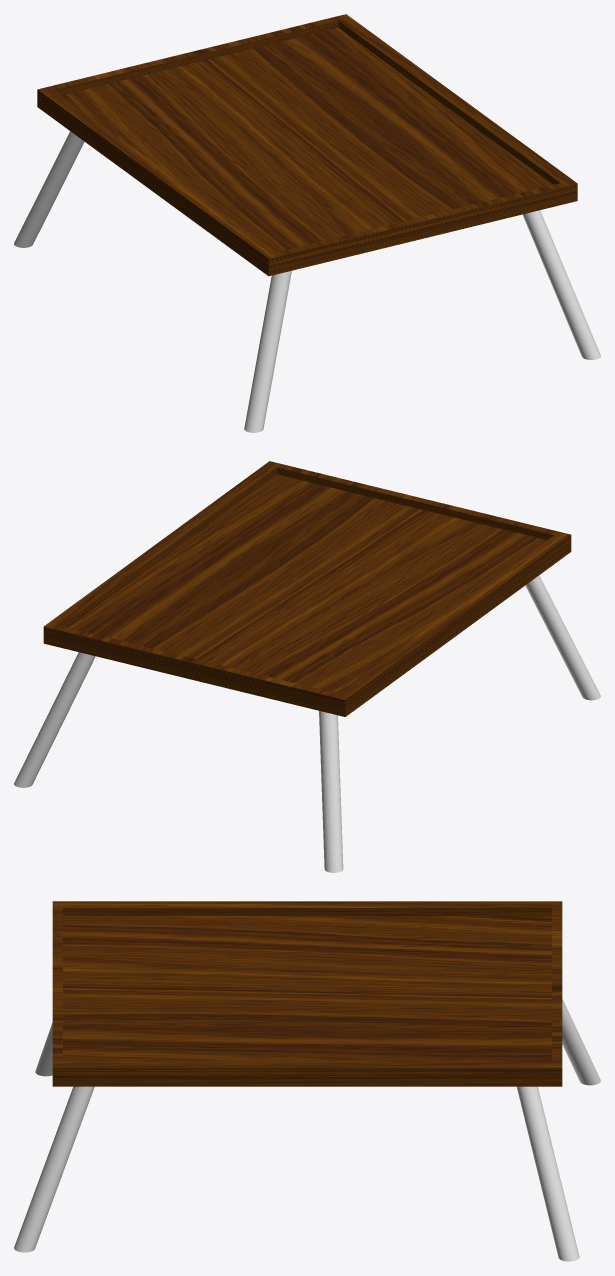
Rendered from table.gltf.
3 renders of one model, top to bottom at view 1: azimuth 30°, elevation 25°; view 2: azimuth 150°, elevation 25°; view 3: azimuth 270°, elevation 25°, orthographic. The views are drawn at different scales.
Visible parts, largest first — view 1: Cube, Cylinder.003, Cylinder, Cylinder.002; view 2: Cube, Cylinder.002, Cylinder.001, Cylinder.003; view 3: Cube, Cylinder.001, Cylinder, Cylinder.002, Cylinder.003.
Boxes of the visible parts, x1,y1,x2,y2 form: Cube: (37,14,577,276); Cylinder.003: (244,271,291,432); Cylinder: (522,210,600,359); Cylinder.002: (14,131,84,247); Cube: (43,461,571,716); Cylinder.002: (319,711,343,872); Cylinder.001: (14,652,95,787); Cylinder.003: (525,575,600,700); Cube: (52,901,562,1086); Cylinder.001: (517,1086,579,1261); Cylinder: (14,1086,94,1252); Cylinder.002: (562,999,600,1085); Cylinder.003: (35,1022,52,1076).
Size of the model in its own units: 43.25 by 18.69 by 55.25.
Materials: 1 (1 with a texture image).
